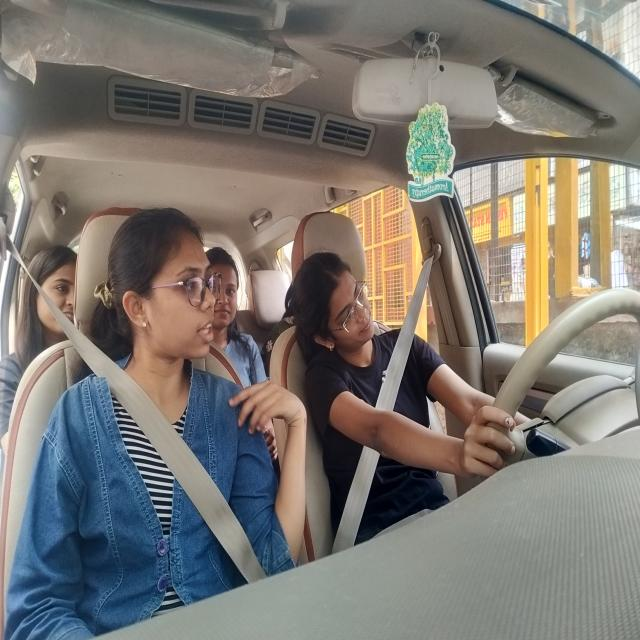drowsy: (284, 238, 387, 376)
person: (111, 204, 218, 412), (23, 224, 82, 383), (204, 231, 251, 354)
